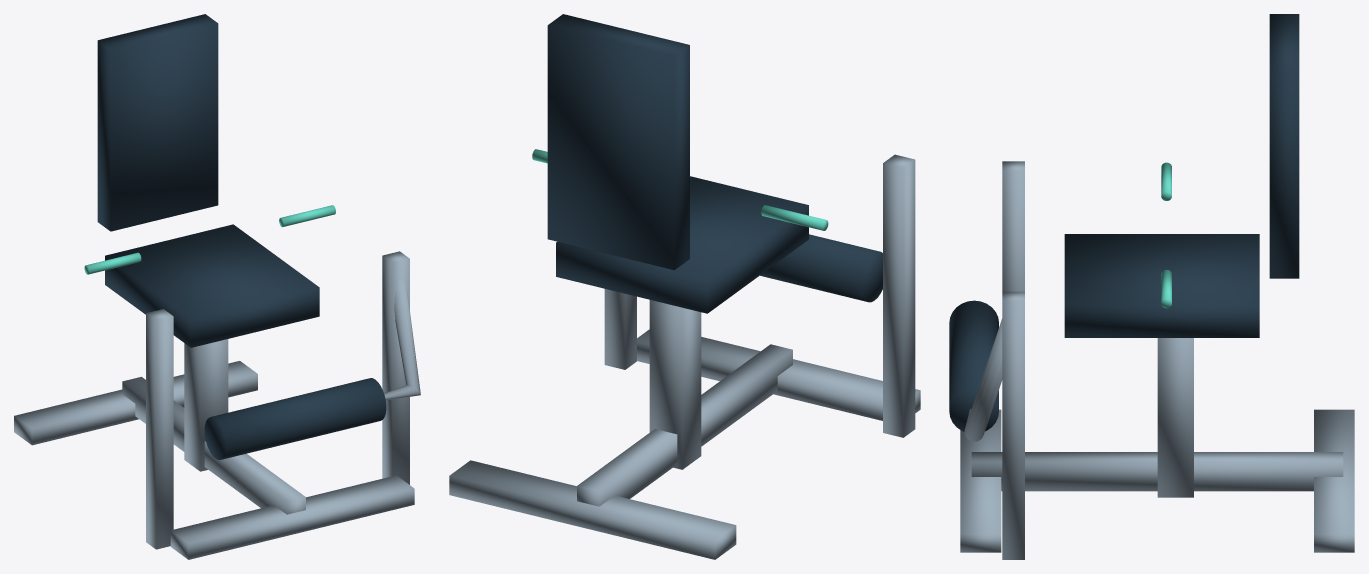
File: leg_extension_machine.glb
3 renders of one model, left to right at view 1: azimuth 30°, elevation 25°; view 2: azimuth 150°, elevation 25°; view 3: azimuth 270°, elevation 25°, orthographic. The views are drawn at different scales.
Visible parts, largest first — view 1: back_pad, base, seat_pad, pivot_support, shin_pad, seat_post, lever, handrail_R, handrail_L; view 2: back_pad, base, seat_pad, pivot_support, seat_post, shin_pad, handrail_R; view 3: base, seat_pad, pivot_support, back_pad, seat_post, shin_pad, lever.
Part boxes in pixels (x1,y1,x2,y2): back_pad: [97, 14, 218, 231]; base: [14, 361, 414, 559]; seat_pad: [105, 224, 319, 347]; pivot_support: [146, 251, 409, 549]; shin_pad: [204, 378, 386, 459]; seat_post: [184, 339, 228, 471]; lever: [384, 280, 420, 400]; handrail_R: [84, 252, 141, 274]; handrail_L: [279, 205, 335, 227]; back_pad: [547, 14, 689, 270]; base: [449, 329, 920, 559]; seat_pad: [556, 176, 808, 313]; pivot_support: [604, 154, 915, 437]; seat_post: [649, 300, 701, 469]; shin_pad: [760, 234, 882, 302]; handrail_R: [761, 205, 828, 230]; base: [960, 409, 1354, 552]; seat_pad: [1064, 234, 1259, 337]; pivot_support: [1002, 161, 1024, 559]; back_pad: [1269, 14, 1299, 278]; seat_post: [1157, 338, 1193, 497]; shin_pad: [949, 300, 998, 431]; lever: [964, 318, 1002, 441].
Bounding box in the file's own units: 0.73 × 1.09 × 0.8947.
